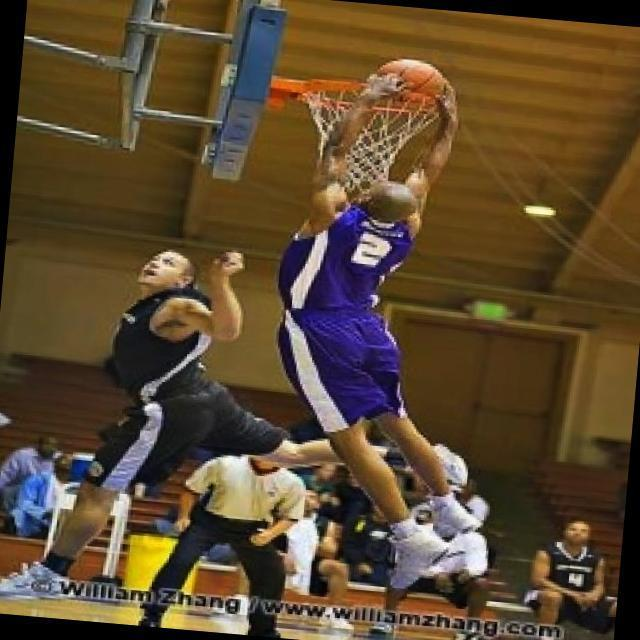ball: (365, 47, 447, 117)
